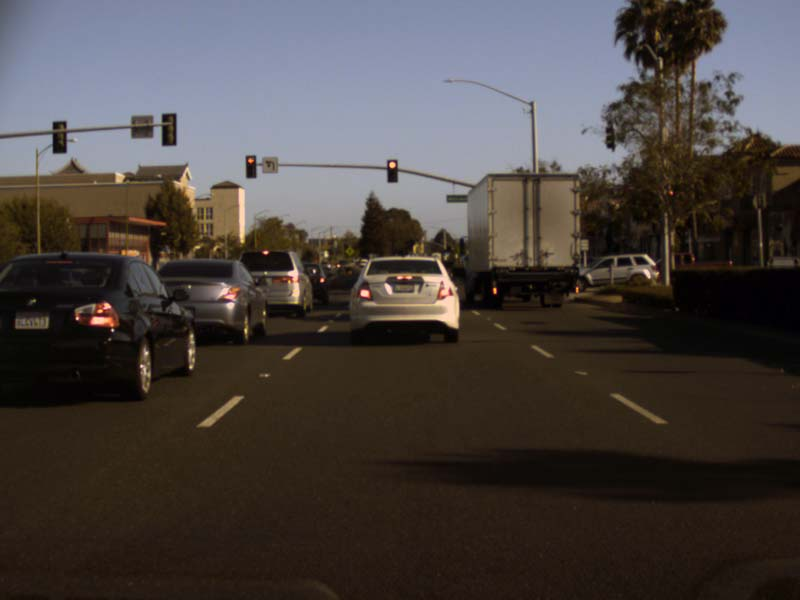Red: (386, 160, 397, 181), (245, 155, 255, 176)
